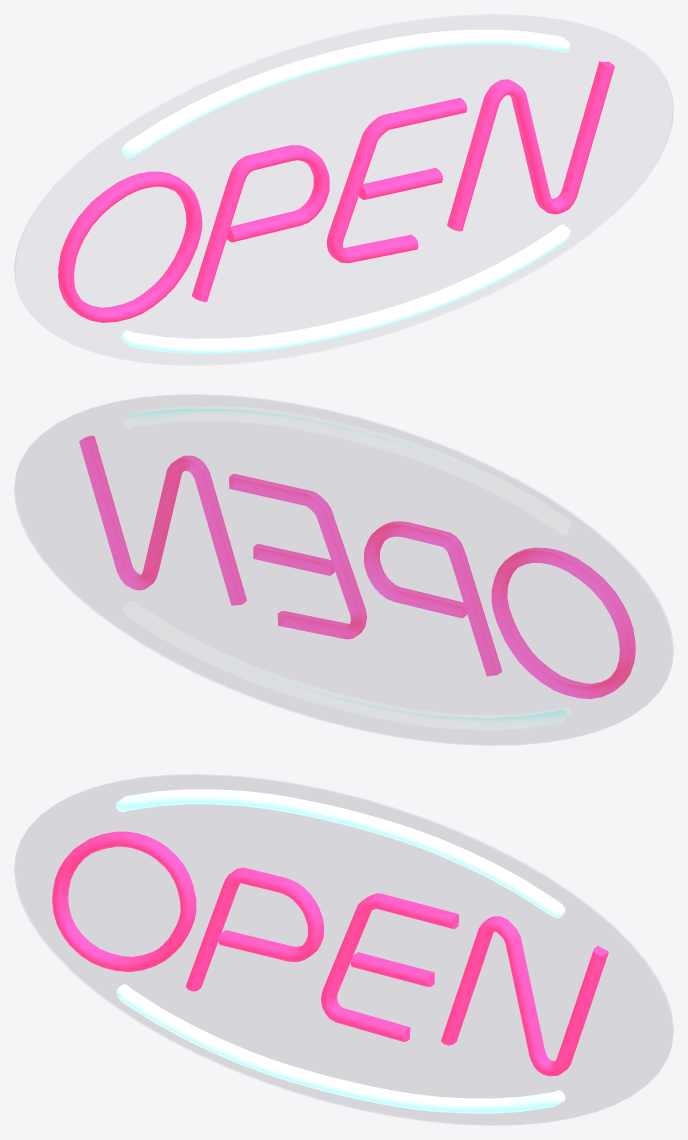
The model's file is cc0_-_neon_sign_open.glb.
3 views of the same model, one above another, from view 1: azimuth 30°, elevation 25°; view 2: azimuth 150°, elevation 25°; view 3: azimuth 330°, elevation 25° (orthographic).
Parts seen in each view (by area): view 1: NeonSignOpen; view 2: NeonSignOpen; view 3: NeonSignOpen.
Part boxes in pixels (left/top/right/bottom): NeonSignOpen: left=14, top=14, right=673, bottom=365; NeonSignOpen: left=14, top=394, right=673, bottom=745; NeonSignOpen: left=14, top=774, right=673, bottom=1125.
Bounding box in the file's own units: 0.4229 × 0.1911 × 0.00944.
Materials: 1 (1 with a texture image).
